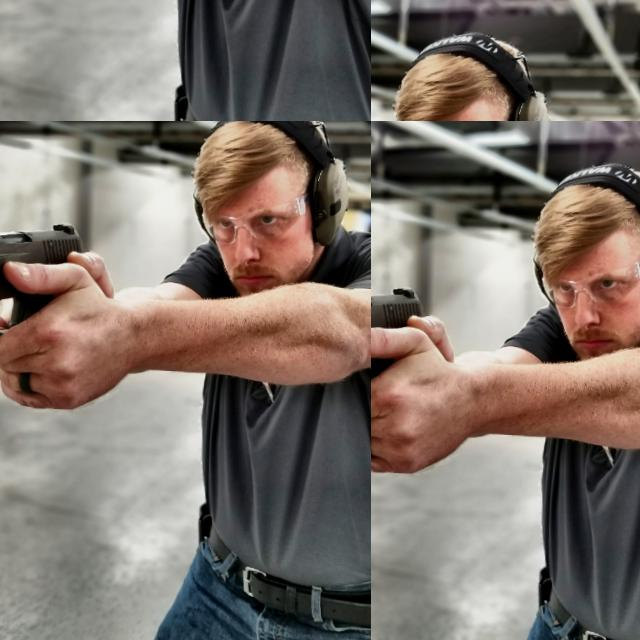handgun: (15, 0, 371, 121), (371, 0, 631, 121), (371, 276, 477, 410), (160, 221, 224, 263)
